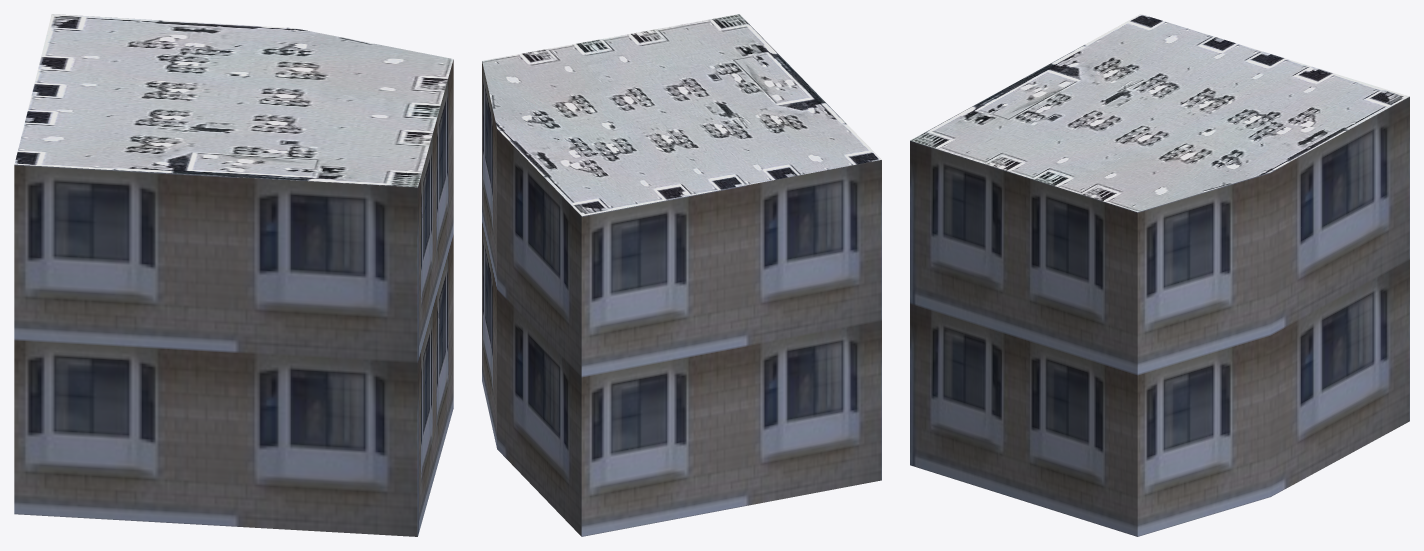
The model's file is ResTex__153.fbx.
3 renders of one model, left to right at view 1: azimuth 30°, elevation 25°; view 2: azimuth 150°, elevation 25°; view 3: azimuth 270°, elevation 25°, orthographic. The views are drawn at different scales.
Parts seen in each view (by area): view 1: CityEngineMaterial_3_m, CityEngineMaterial_8_m; view 2: CityEngineMaterial_3_m, CityEngineMaterial_8_m; view 3: CityEngineMaterial_3_m, CityEngineMaterial_8_m.
Part boxes in pixels (x1,y1,x2,y2): CityEngineMaterial_3_m: (14,59,453,536); CityEngineMaterial_8_m: (14,14,453,187); CityEngineMaterial_3_m: (482,61,881,536); CityEngineMaterial_8_m: (482,14,881,216); CityEngineMaterial_3_m: (910,97,1409,536); CityEngineMaterial_8_m: (910,14,1409,212).
Bounding box in the file's own units: 7.86 × 6 × 8.37.
Materials: 2 (2 with a texture image).
